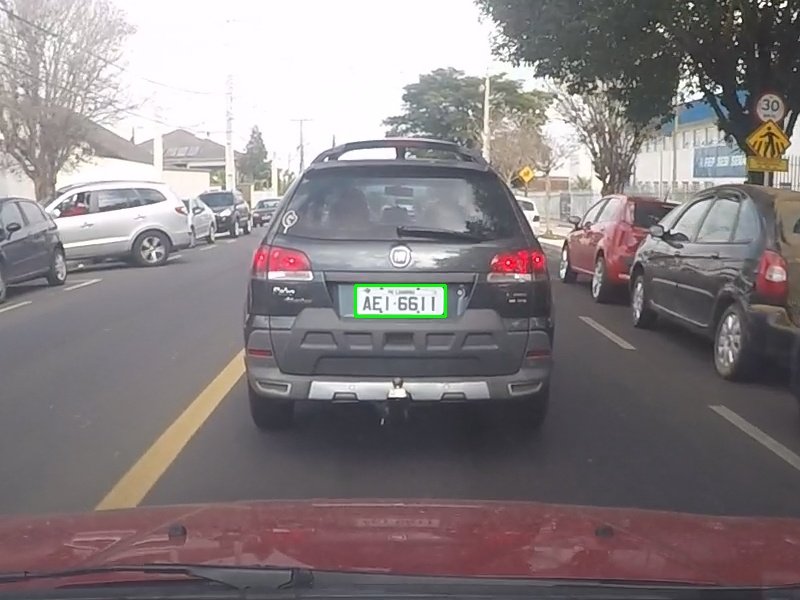placa: (355, 285, 445, 316)
